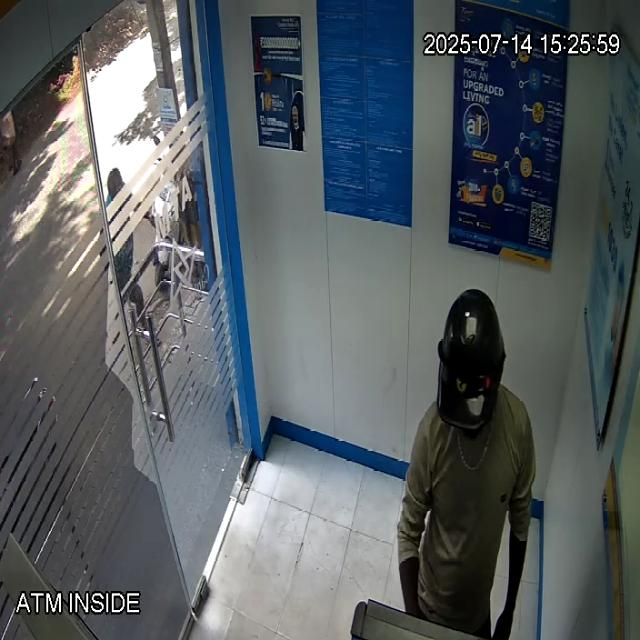helmet: (436, 288, 505, 434)
